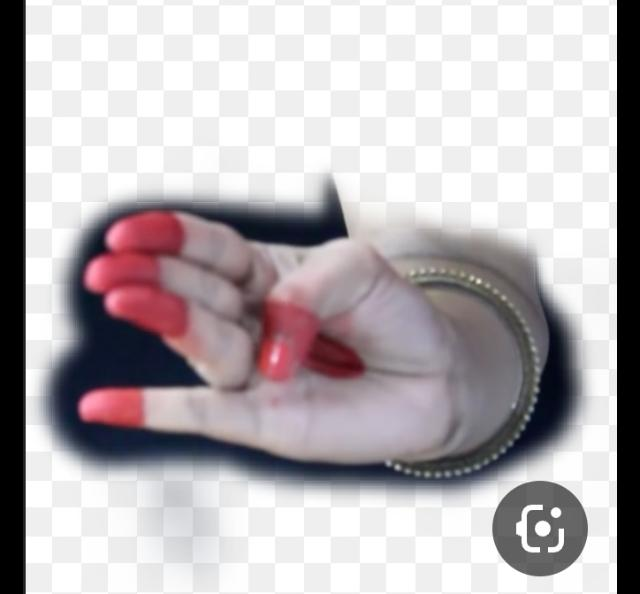chatur: (69, 151, 513, 503)
